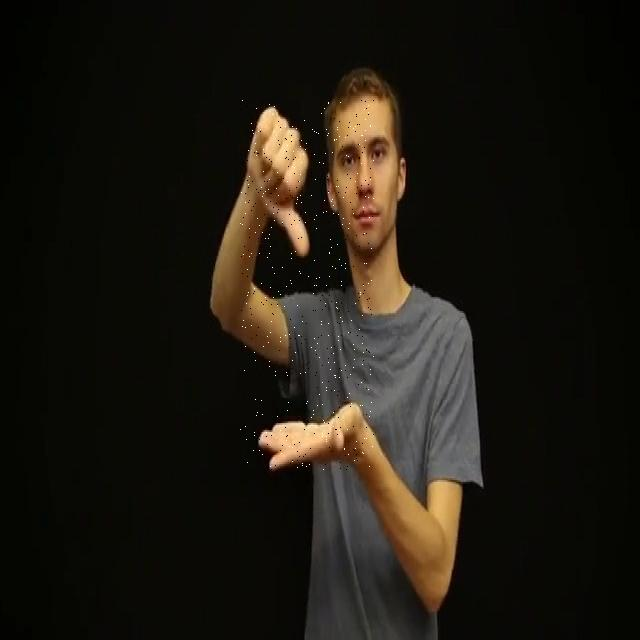sauce: (240, 100, 374, 470)
